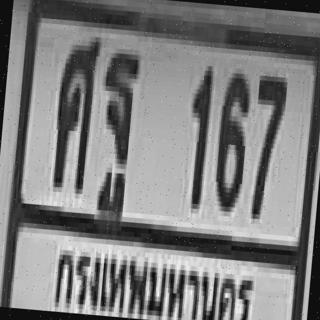A16: (94, 48, 140, 193)
A38: (50, 32, 99, 187)
N01: (182, 60, 212, 204)
N06: (212, 67, 250, 207)
N07: (246, 70, 286, 216)
